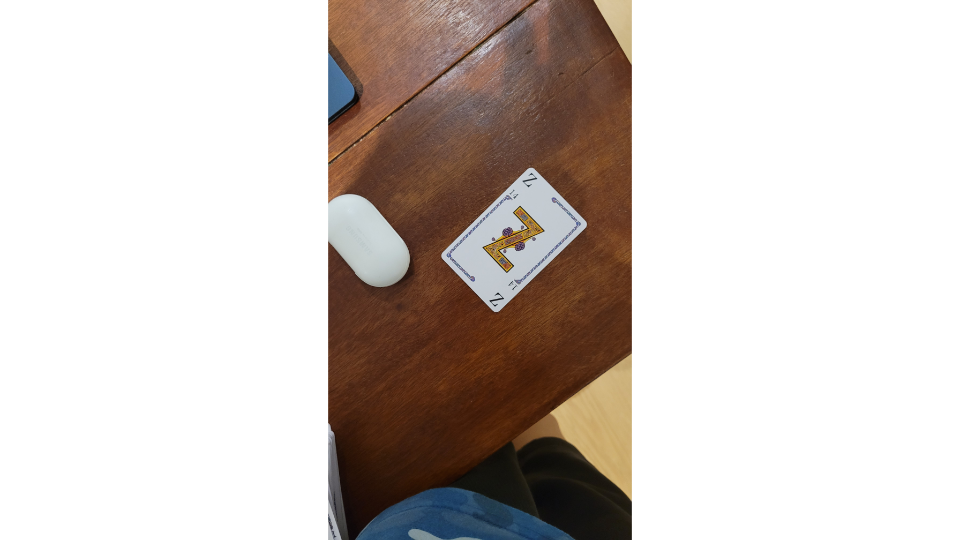Z: (439, 163, 590, 315)
